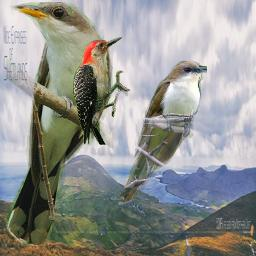Cuckoo: (6, 2, 113, 246), (117, 59, 207, 205)
Woodpecker: (73, 37, 130, 145)
